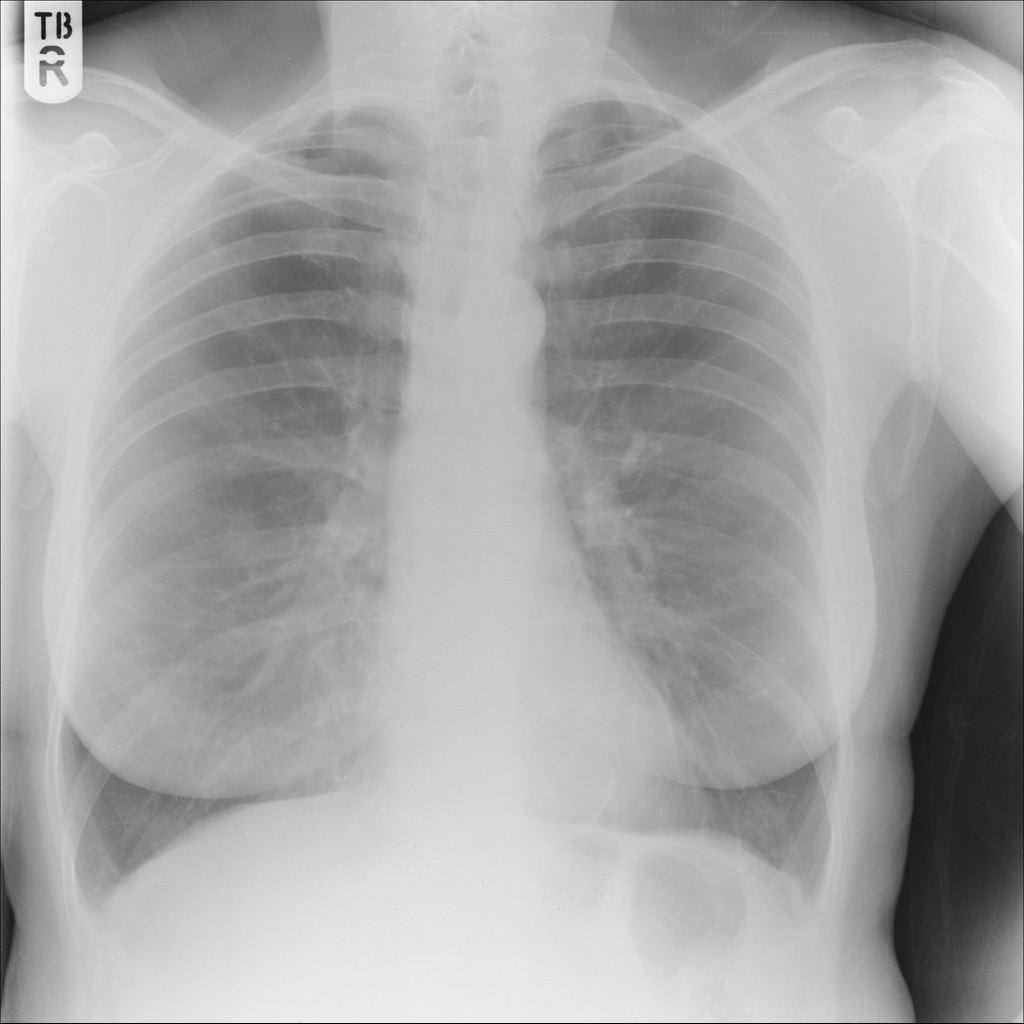cancer: (95, 245, 401, 766), (537, 220, 812, 687)
